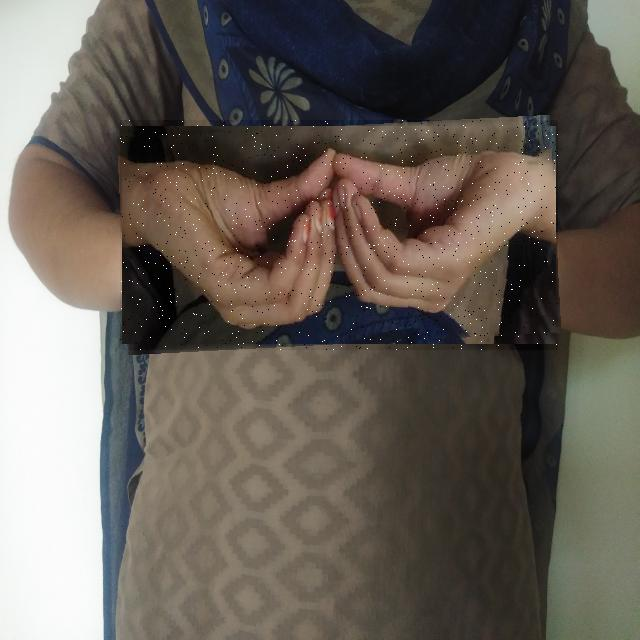B: (120, 120, 558, 350)
